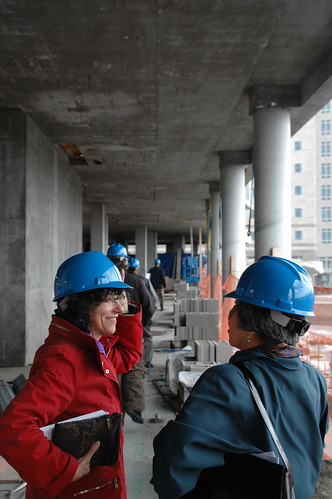person hardhat: (184, 254, 332, 499), (20, 251, 157, 499), (100, 237, 144, 421), (148, 253, 165, 319), (128, 250, 142, 279)
